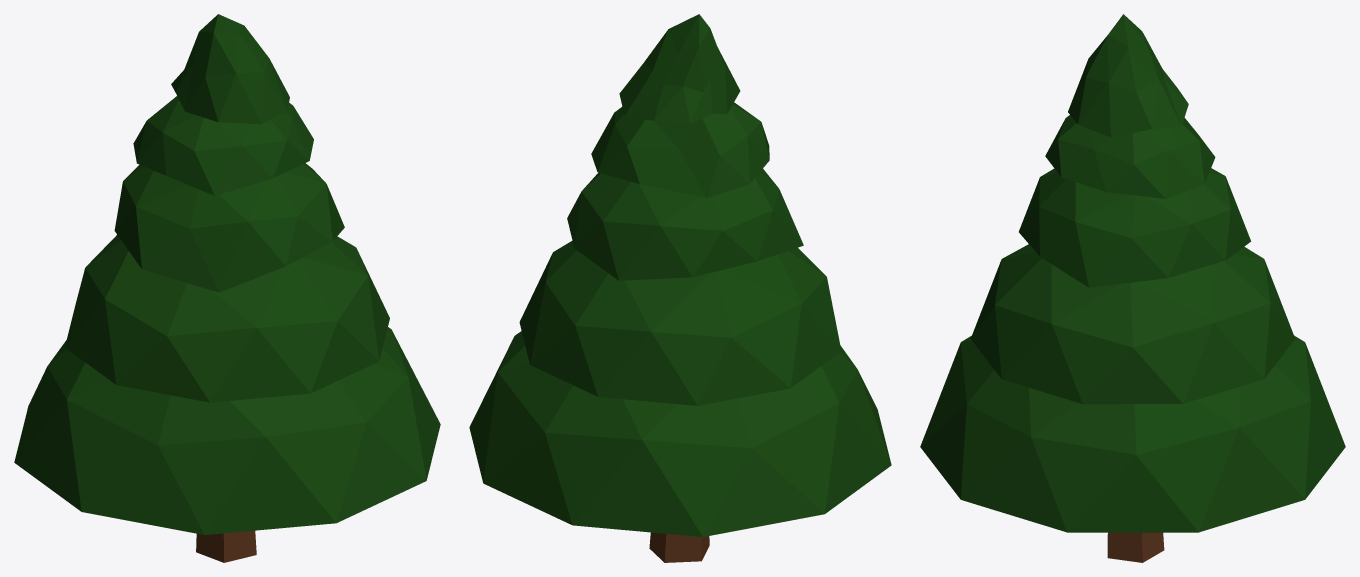
File: PineTree1.gltf
3 renders of one model, left to right at view 1: azimuth 30°, elevation 25°; view 2: azimuth 150°, elevation 25°; view 3: azimuth 270°, elevation 25°, orthographic. The views are drawn at different scales.
Parts seen in each view (by area): view 1: Cylinder; view 2: Cylinder; view 3: Cylinder.
Boxes of the visible parts, x1,y1,x2,y2 form: Cylinder: (14, 14, 440, 562); Cylinder: (469, 14, 891, 562); Cylinder: (920, 14, 1345, 562).
Size of the model in its own units: 6.46 by 9.32 by 6.79.
